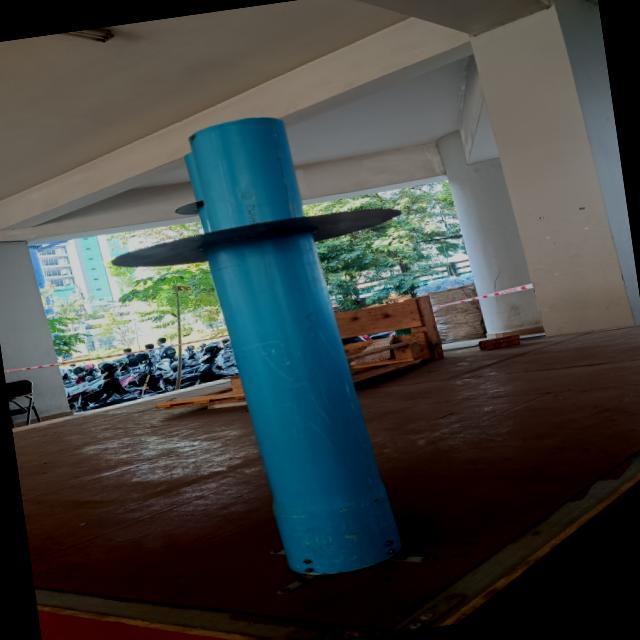pole: (64, 64, 447, 389)
